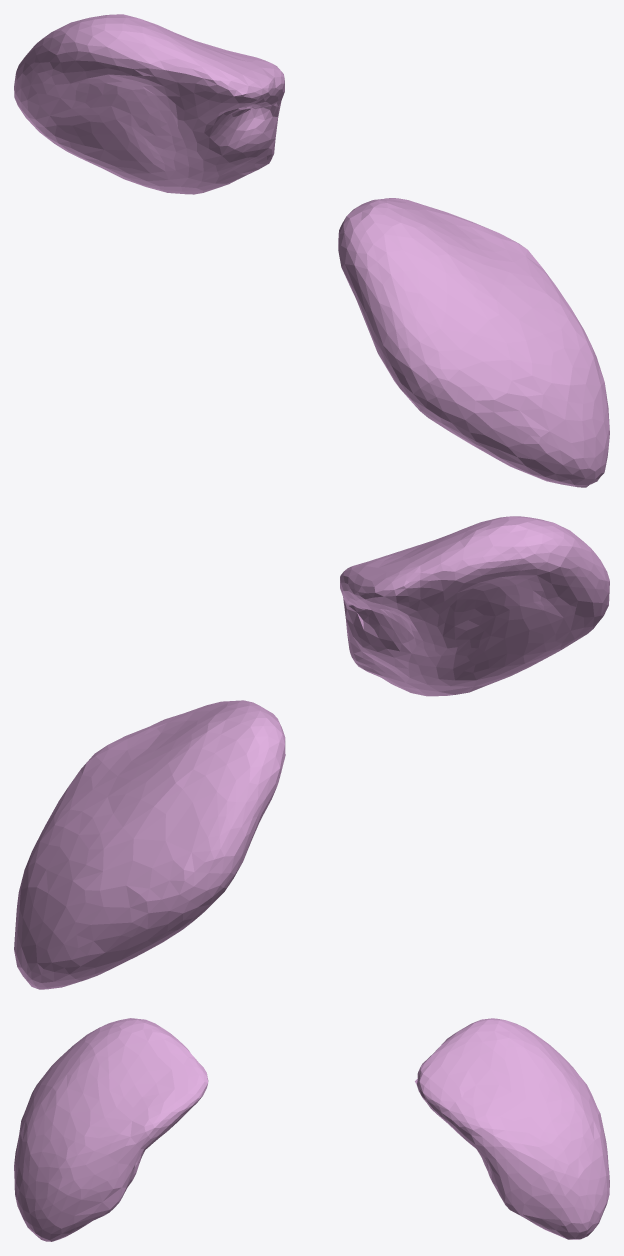
3 renders of one model, top to bottom at view 1: azimuth 30°, elevation 25°; view 2: azimuth 150°, elevation 25°; view 3: azimuth 270°, elevation 25°, orthographic. The views are drawn at different scales.
Visible parts, largest first — view 1: 381.obj; view 2: 381.obj; view 3: 381.obj.
Boxes of the visible parts, x1,y1,x2,y2 form: 381.obj: (14, 14, 609, 487); 381.obj: (14, 516, 609, 989); 381.obj: (14, 1018, 609, 1241).
Bounding box in the file's own units: 1315 × 1431 × 4517.
